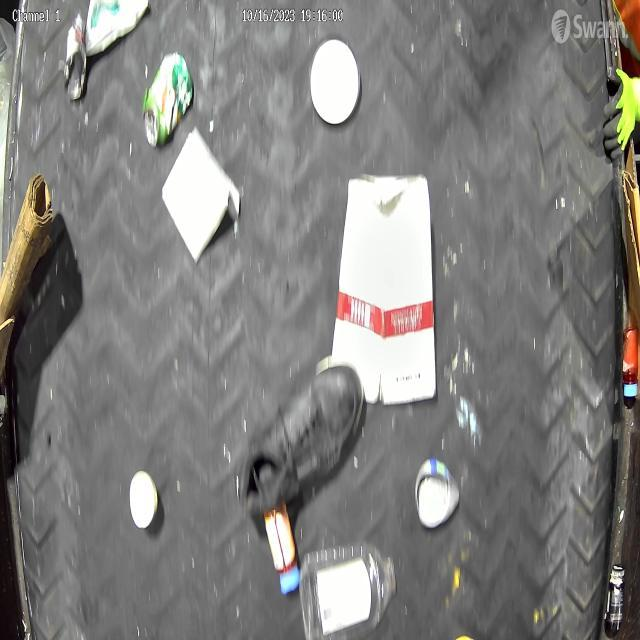can: (143, 50, 195, 146), (414, 458, 460, 530), (128, 471, 160, 528)
plastic_bottle: (298, 540, 397, 640)
